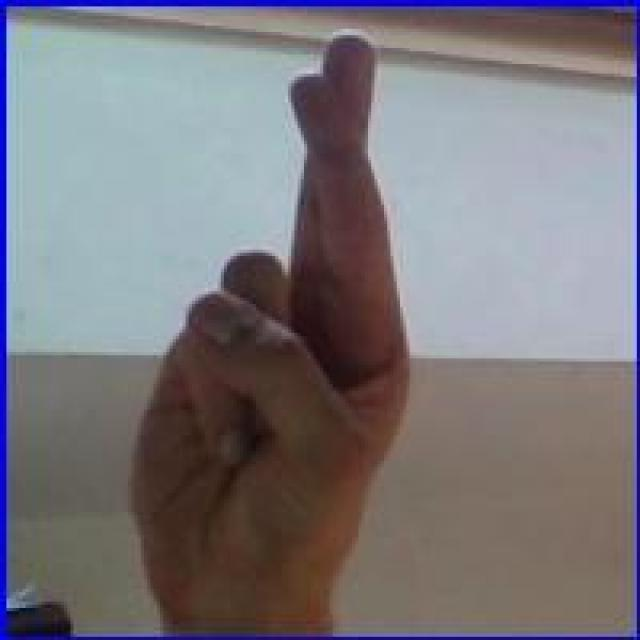R: (112, 24, 419, 610)
